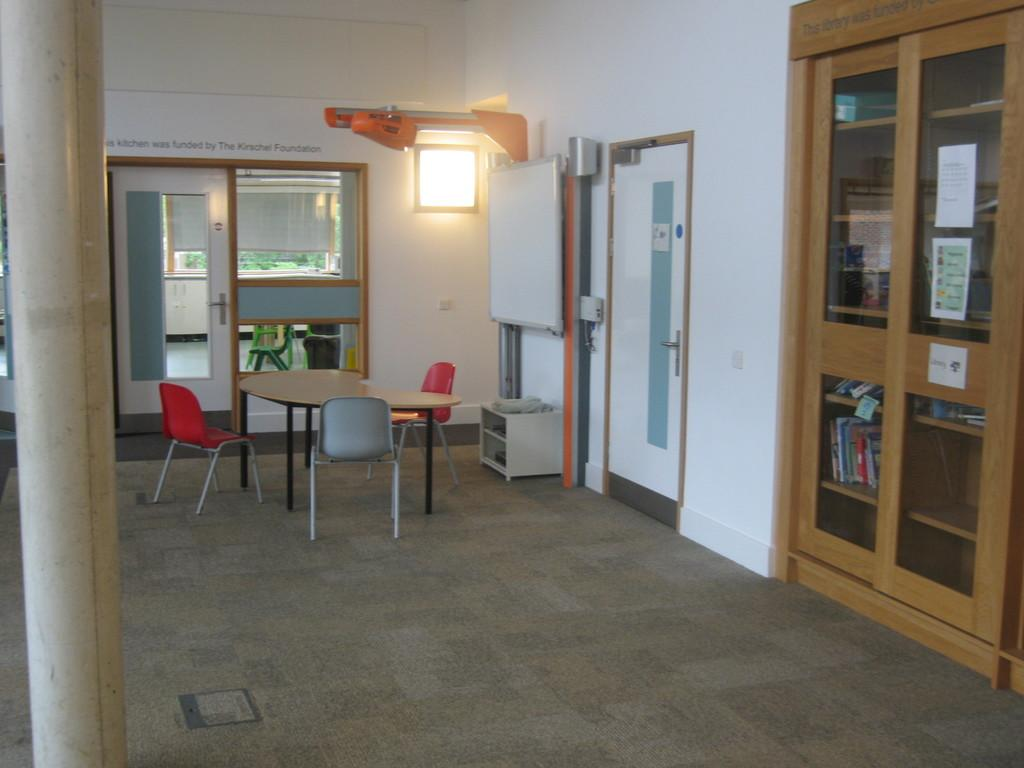cabinet_door: (909, 56, 1007, 616), (818, 63, 884, 557)
handle: (662, 330, 684, 372), (210, 292, 230, 323)
